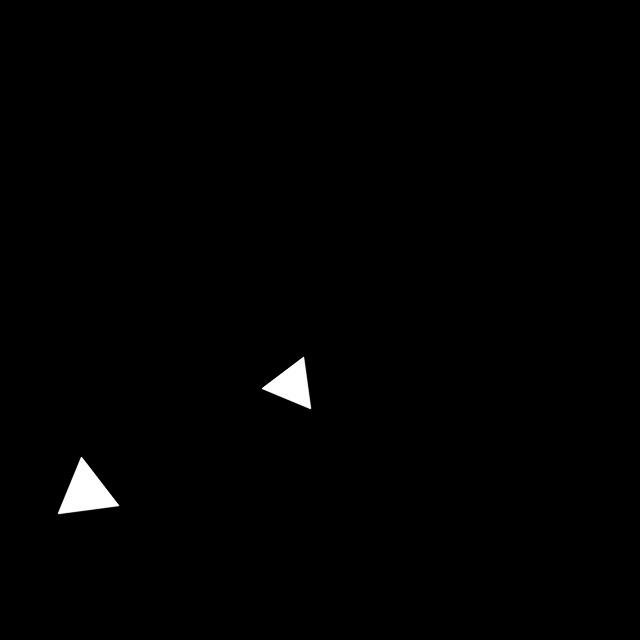Triangle: (48, 440, 128, 521), (249, 345, 328, 421)
